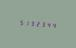five: (17, 18, 22, 26)
four: (47, 20, 52, 29), (53, 21, 58, 29)
one: (23, 18, 28, 27)
three: (29, 19, 34, 27), (41, 20, 46, 28)
two: (35, 19, 40, 28)
